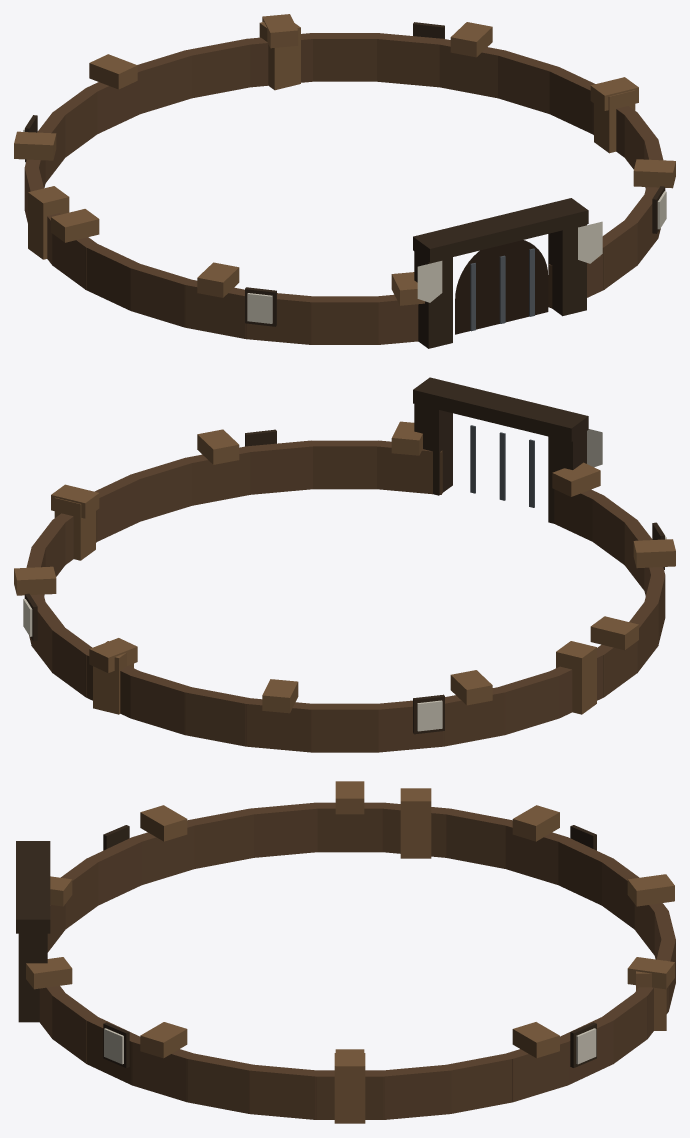
File: wall-L1.glb
3 views of the same model, one above another, from view 1: azimuth 30°, elevation 25°; view 2: azimuth 150°, elevation 25°; view 3: azimuth 270°, elevation 25° (orthographic).
Bounding box in the file's own units: 7.02 × 1.18 × 6.89.
